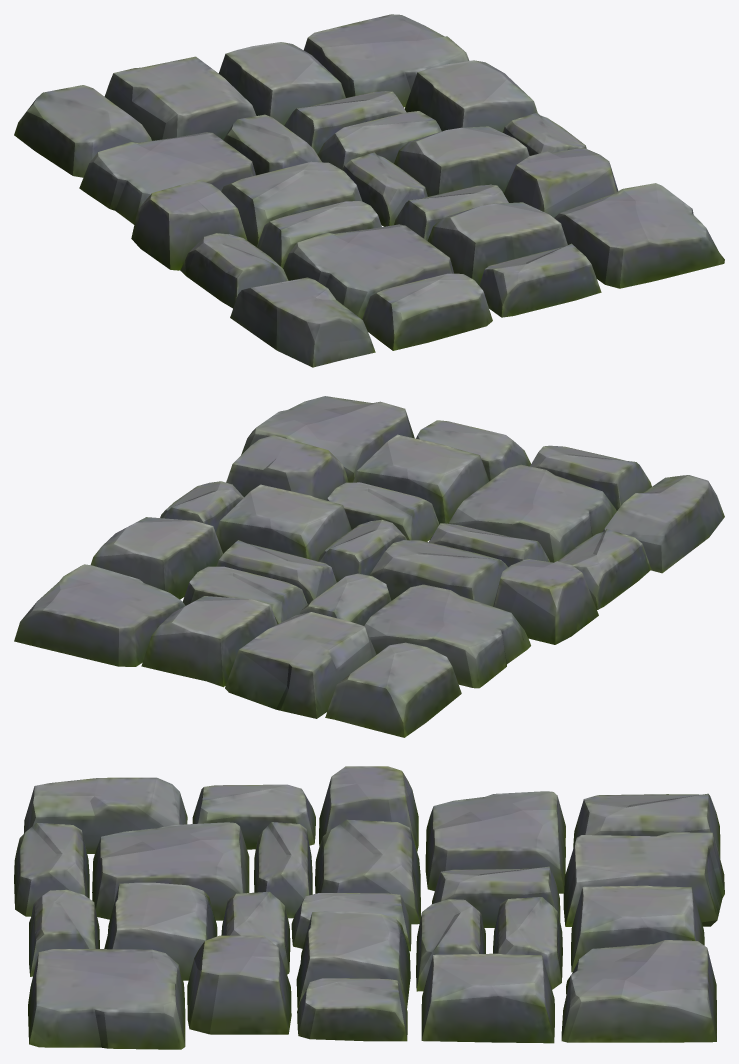
File: Rock_Path_Square_Thin.glb
3 views of the same model, one above another, from view 1: azimuth 30°, elevation 25°; view 2: azimuth 150°, elevation 25°; view 3: azimuth 270°, elevation 25° (orthographic). The views are drawn at different scales.
Parts seen in each view (by area): view 1: RockPath_Square_Thin; view 2: RockPath_Square_Thin; view 3: RockPath_Square_Thin.
Part boxes in pixels (left/top/right/bottom): RockPath_Square_Thin: left=14, top=14, right=724, bottom=367; RockPath_Square_Thin: left=14, top=396, right=724, bottom=737; RockPath_Square_Thin: left=14, top=766, right=724, bottom=1049.
Size of the model in its own units: 1.56 by 0.1763 by 1.99.
Materials: 1 (1 with a texture image).
